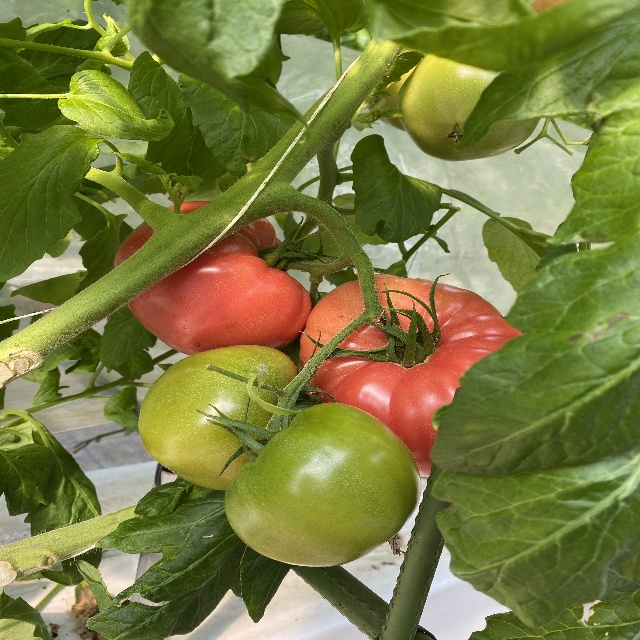b_fully_ripened: (112, 201, 311, 357)
b_green: (225, 403, 421, 568), (138, 345, 297, 490), (397, 54, 541, 162)
b_half_ripened: (299, 274, 522, 477)
